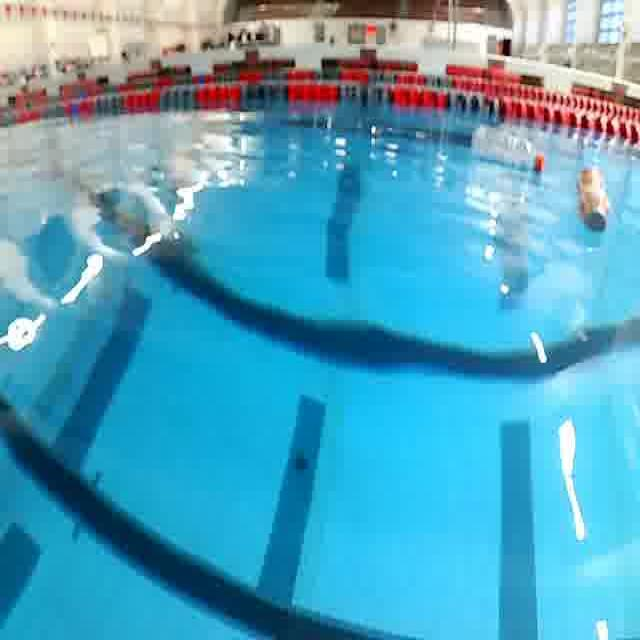Bottle: (470, 122, 550, 179), (574, 163, 611, 238)
